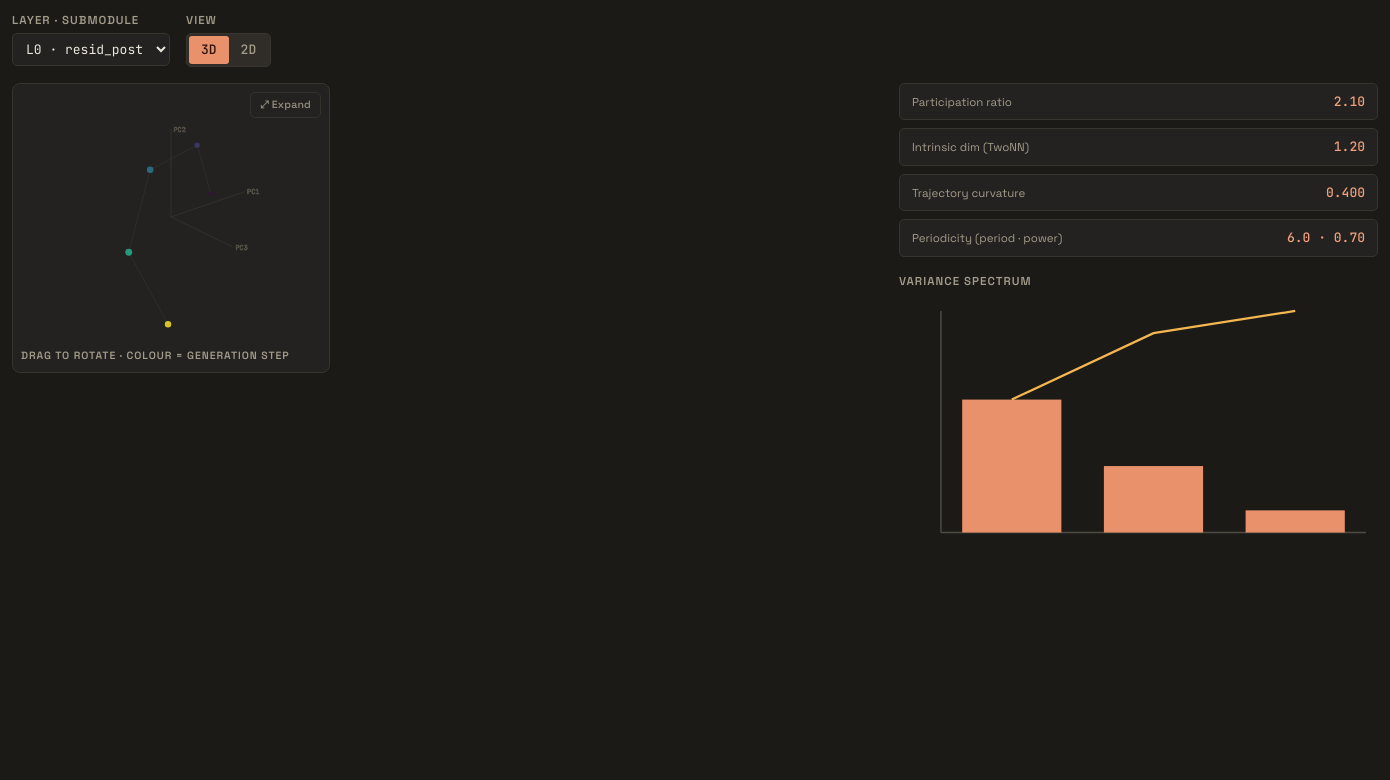
Scenario: ManifoldTab › switches the active cloud when the layer selector changes
Expected: the text with test id "manifold-metric-pr" reads "2.10", x1=1334 y1=93 x2=1365 y2=110
Select "L1 · resid_post" in the dropdown with test id "manifold-layer-select" at [91, 50], box x1=12 y1=33 x2=170 y2=66
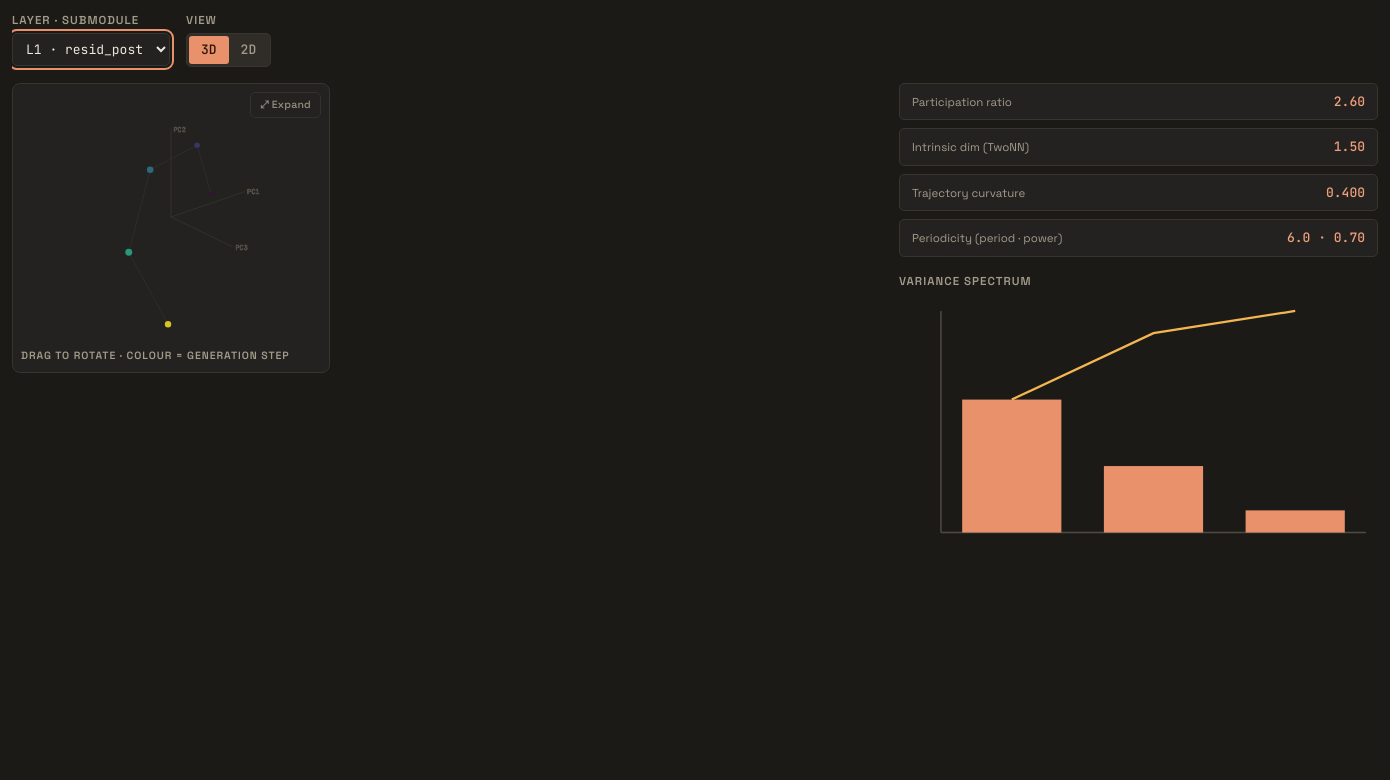
Expected: the text with test id "manifold-metric-pr" reads "2.60", x1=1334 y1=93 x2=1365 y2=110
